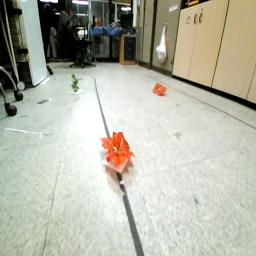herb: (71, 75, 82, 93)
wild: (100, 132, 138, 166), (154, 84, 170, 98)
